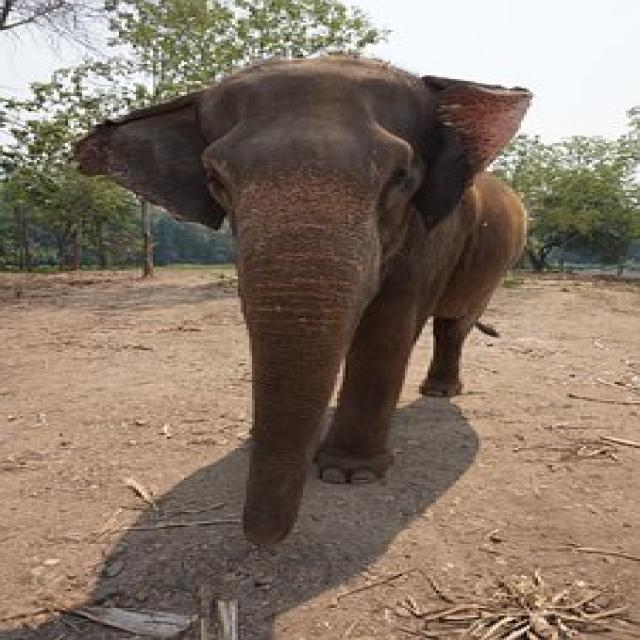Elephant: (63, 36, 591, 576)
